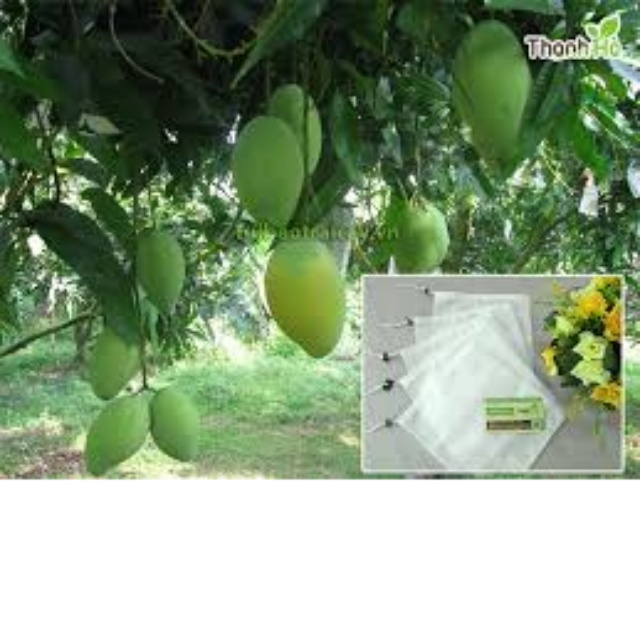thanh_long: (255, 237, 359, 369), (454, 16, 535, 168), (228, 107, 307, 234), (82, 399, 163, 477), (386, 190, 462, 272), (144, 385, 212, 466), (130, 224, 186, 319)
